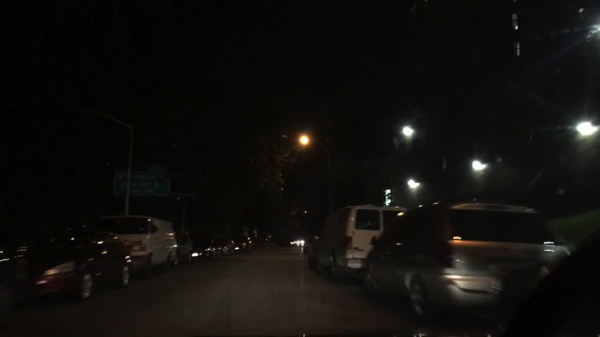car: (362, 199, 573, 324), (1, 224, 134, 306), (313, 204, 407, 285), (98, 214, 178, 279), (173, 229, 195, 266), (191, 237, 220, 263), (306, 230, 319, 268), (216, 239, 237, 257), (237, 238, 254, 255), (294, 240, 304, 246), (288, 241, 296, 248)
traffic sign: (114, 168, 172, 198), (242, 225, 250, 233), (242, 232, 249, 238)
